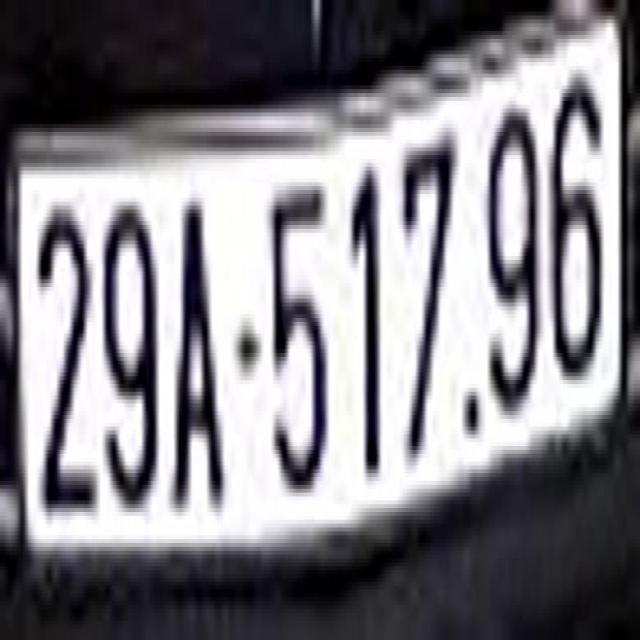1: (349, 140, 385, 473)
2: (36, 198, 96, 516)
5: (269, 178, 334, 496)
6: (548, 54, 607, 388)
7: (400, 120, 456, 466)
9: (102, 186, 160, 528), (484, 108, 538, 412)
A: (180, 217, 225, 508)
